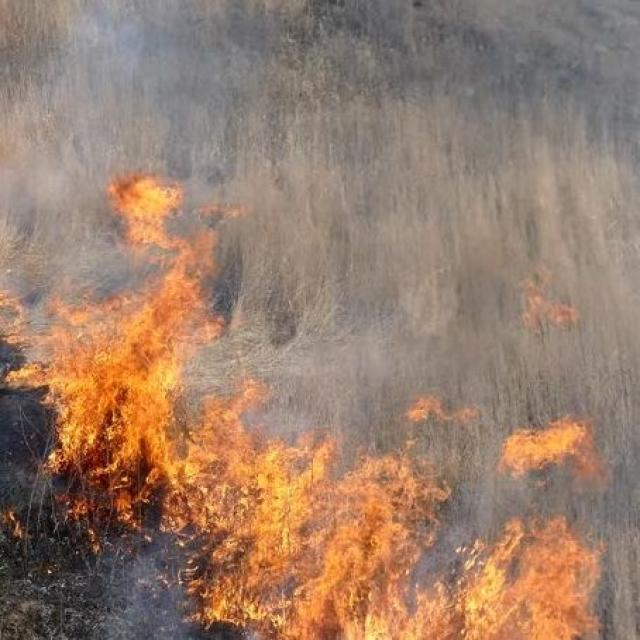Fire: (0, 176, 611, 640)
